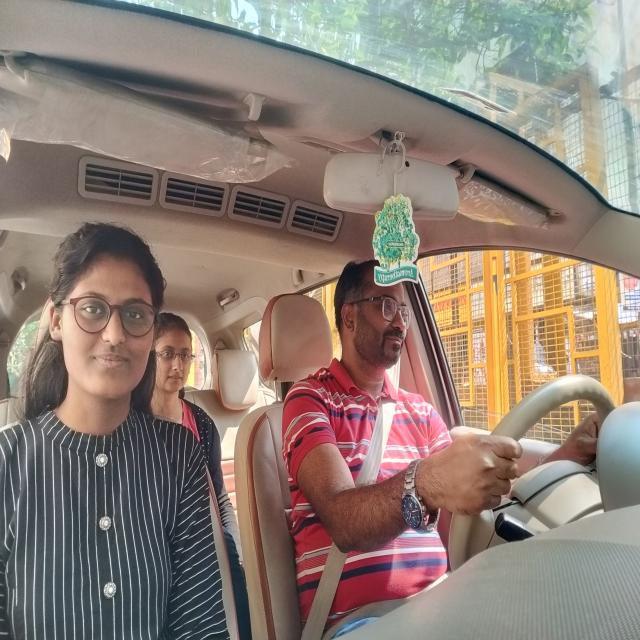person: (46, 231, 157, 403), (337, 268, 408, 357), (158, 318, 192, 407)
